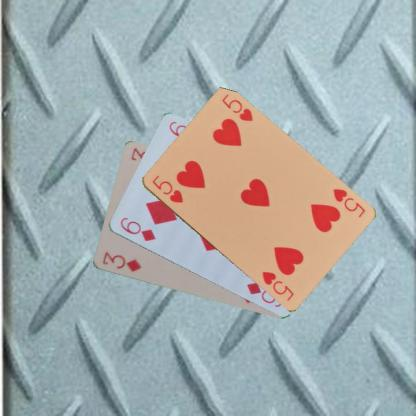3d: (99, 249, 143, 274)
5h: (330, 185, 366, 219), (149, 172, 184, 205)
6d: (117, 215, 157, 243)
